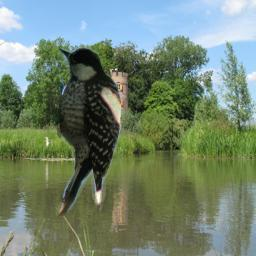Woodpecker: (56, 46, 123, 216)
